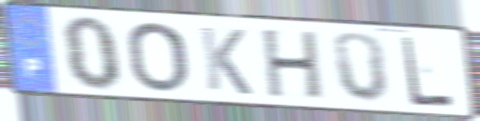0: (55, 14, 126, 93), (331, 30, 392, 106)
H: (261, 28, 325, 103)
K: (197, 24, 255, 98)
L: (399, 34, 457, 109)
O: (125, 20, 191, 95)
